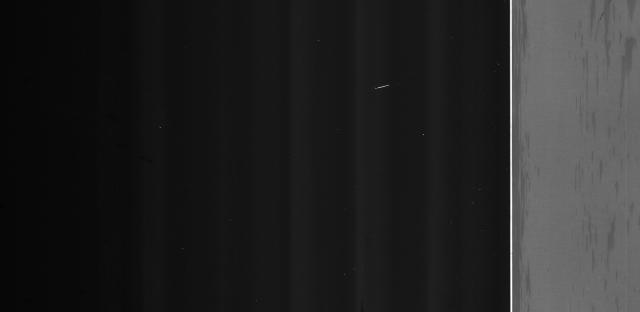water_spot: (573, 3, 637, 258), (512, 3, 534, 308)
